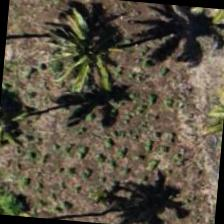Kelapa_Sawit: (40, 5, 138, 103)
